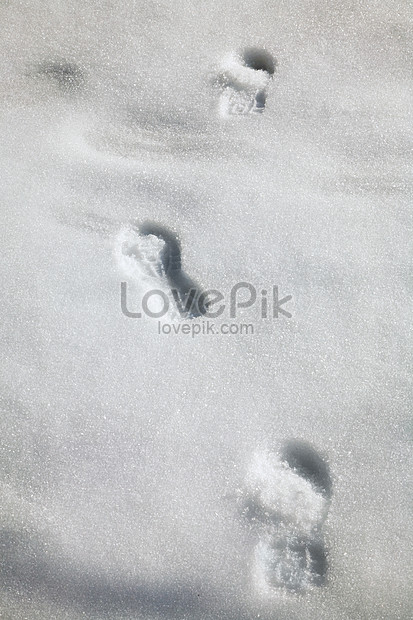human_footprint: (234, 438, 353, 606), (117, 210, 212, 336), (204, 17, 284, 134)
